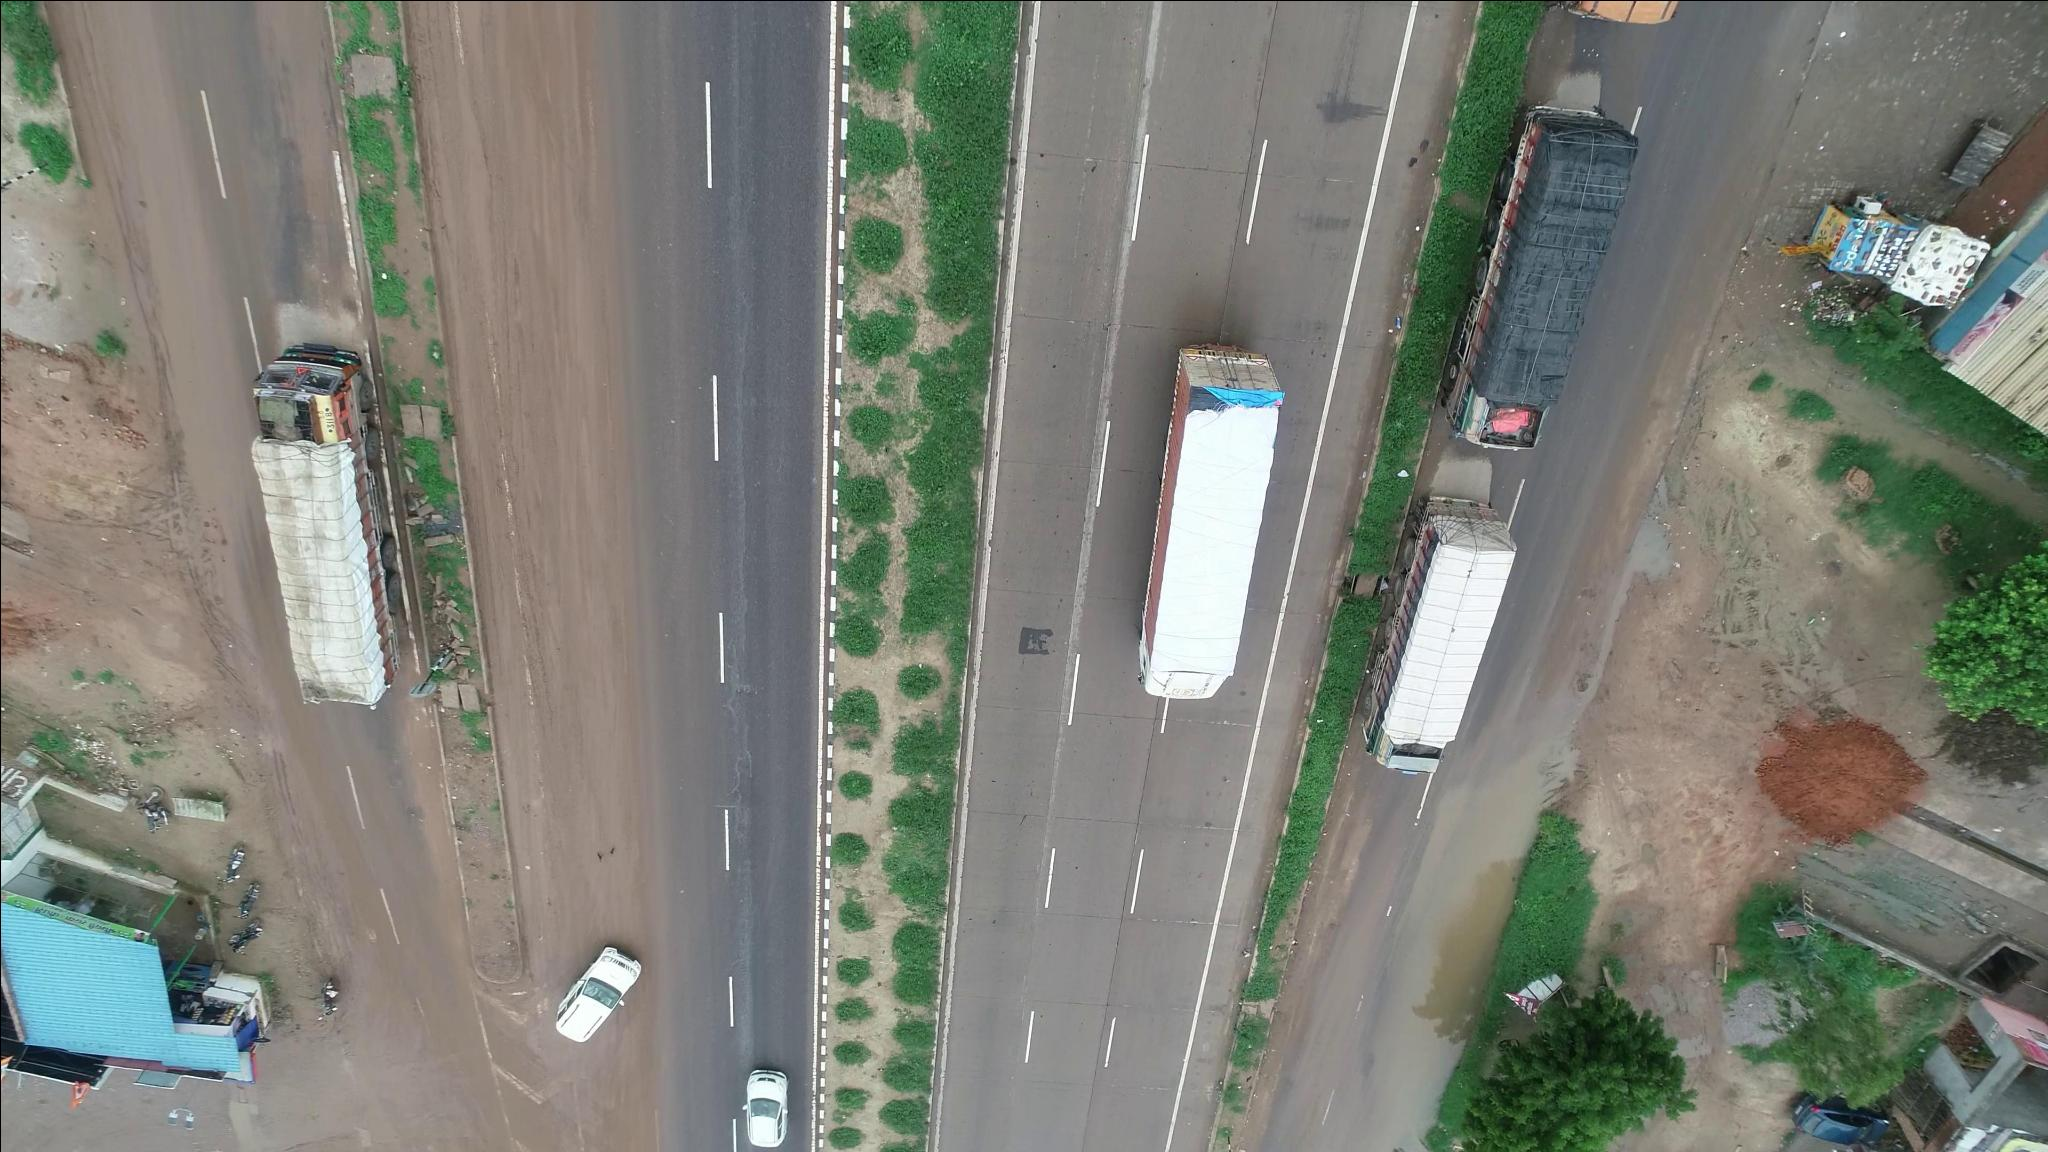Muddy_road: (404, 3, 627, 401), (459, 412, 660, 724), (504, 722, 663, 951)
